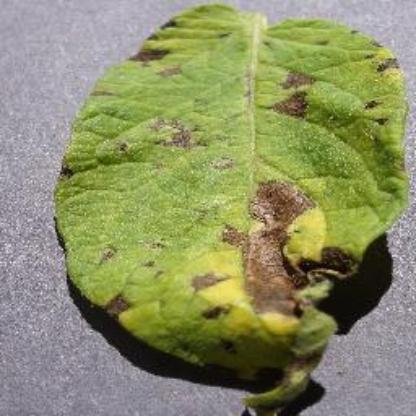Early-Blight: (49, 2, 416, 414)
